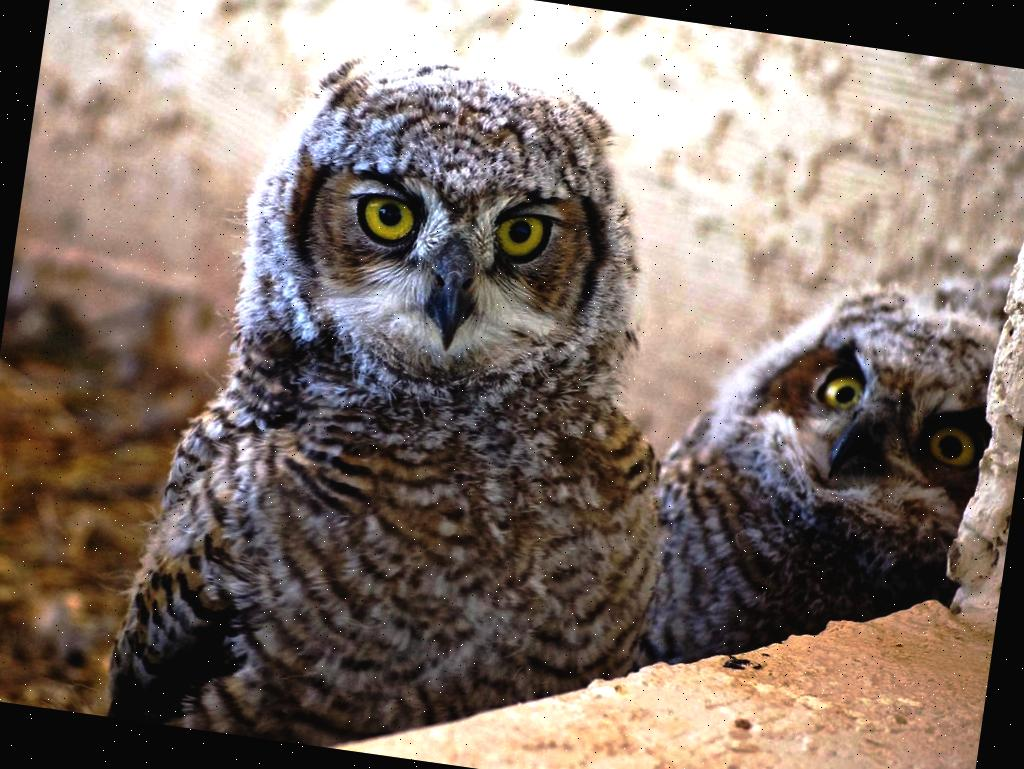Owl: (83, 23, 724, 769), (623, 241, 999, 714)
